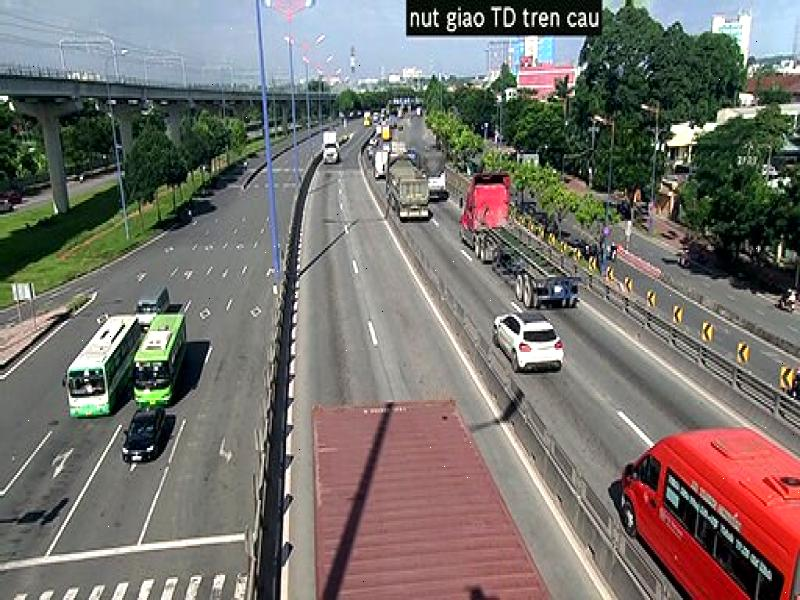bus: (66, 312, 141, 419), (134, 304, 192, 414)
